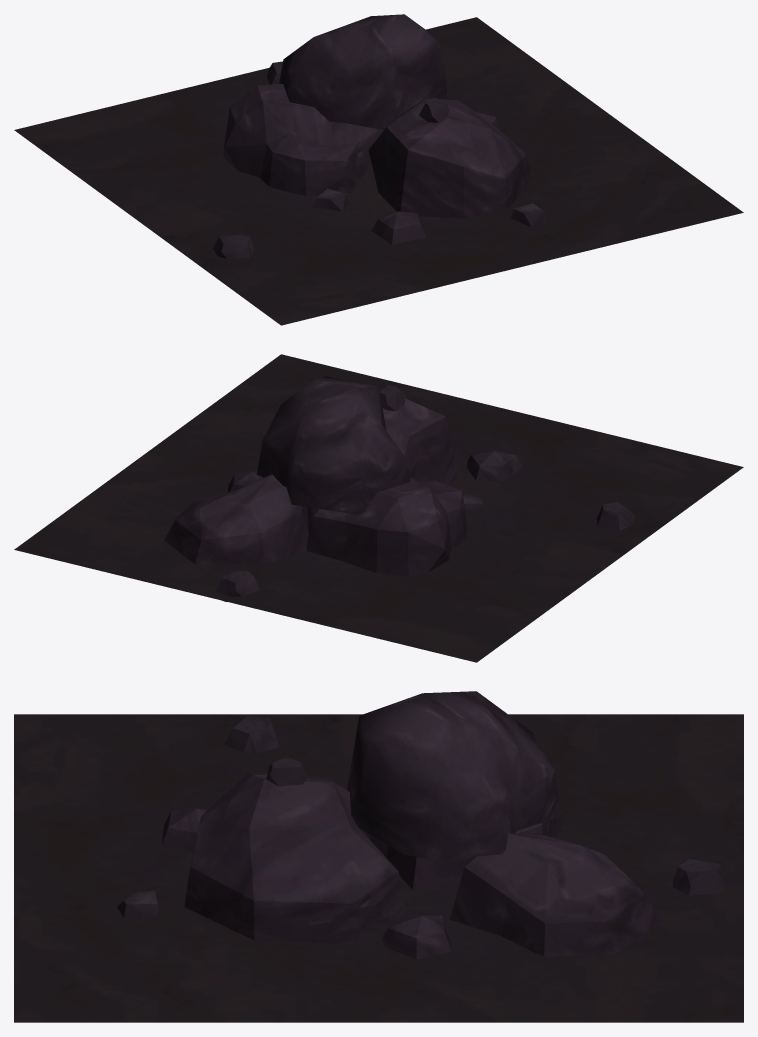
Rendered from cave_rubble_08.fbx.
The picture shows the model from 3 angles, top to bottom: view 1: azimuth 30°, elevation 25°; view 2: azimuth 150°, elevation 25°; view 3: azimuth 270°, elevation 25°; orthographic projection. The views are drawn at different scales.
Parts seen in each view (by area): view 1: cave_rubble_08-0; view 2: cave_rubble_08-0; view 3: cave_rubble_08-0.
Part boxes in pixels (x1,y1,x2,y2): cave_rubble_08-0: (14, 14, 743, 325); cave_rubble_08-0: (14, 354, 743, 662); cave_rubble_08-0: (14, 691, 743, 1022).
Size of the model in its own units: 4 by 1.14 by 4.
